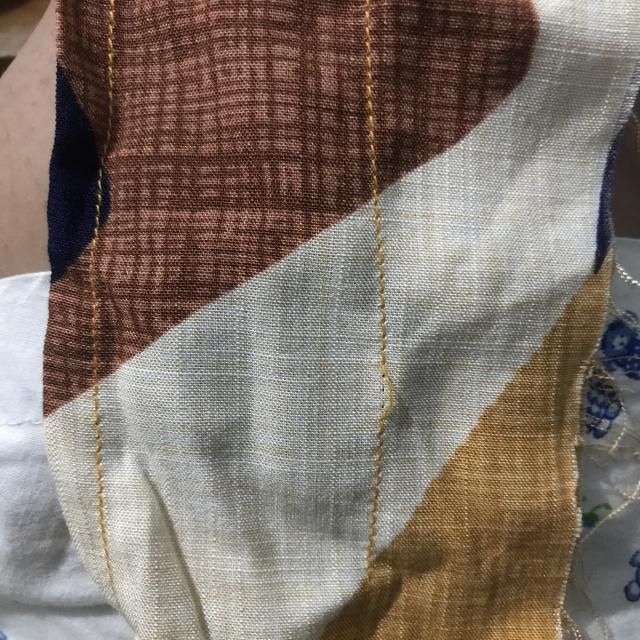good: (365, 230, 396, 314)
skip: (366, 348, 403, 442)
